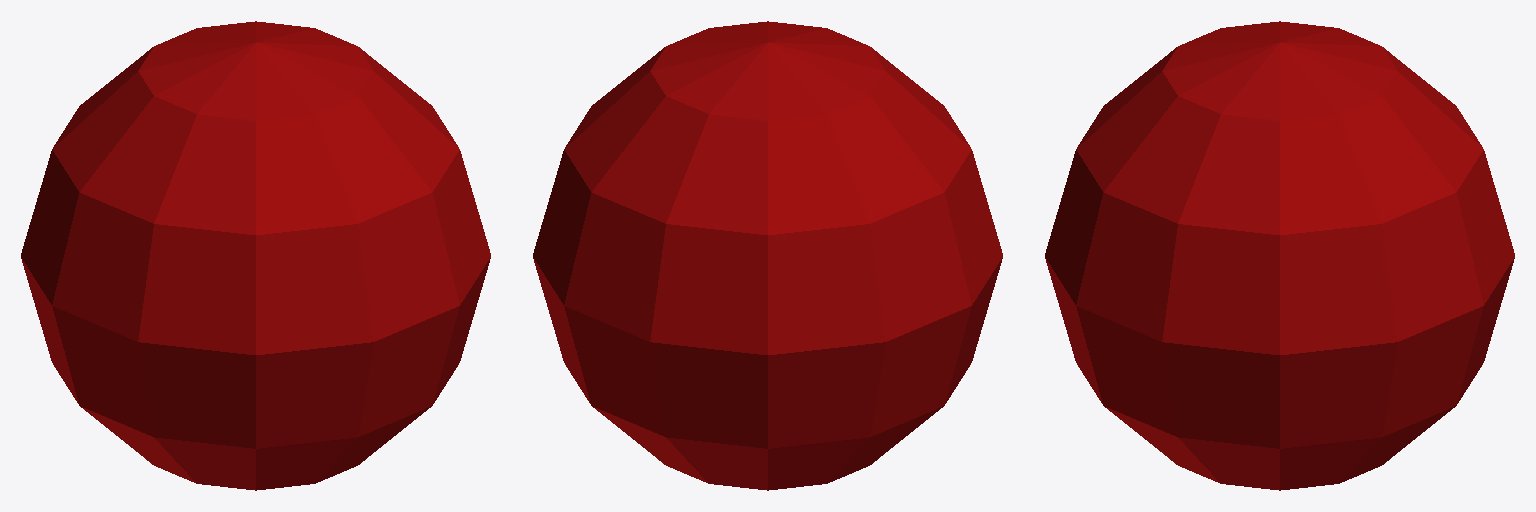
File: sphere_flat.obj
The picture shows the model from 3 angles: view 1: azimuth 30°, elevation 25°; view 2: azimuth 150°, elevation 25°; view 3: azimuth 270°, elevation 25°; orthographic projection.
Visible parts, largest first — view 1: Sphere; view 2: Sphere; view 3: Sphere.
Part boxes in pixels (bbox=[...]): Sphere: bbox=[21, 21, 490, 490]; Sphere: bbox=[533, 21, 1002, 490]; Sphere: bbox=[1045, 21, 1514, 490].
Size of the model in its own units: 2 by 2 by 2.